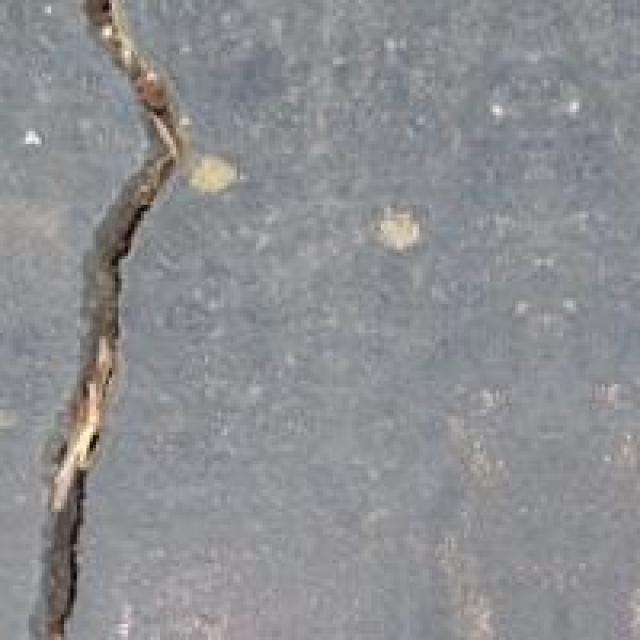crack: (32, 0, 198, 637)
